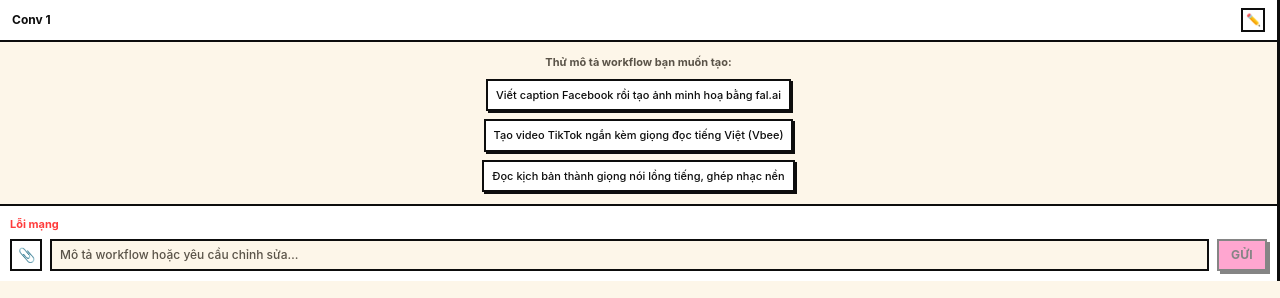
Test: ChatPane — composer › shows chatError above the composer and hides it once the user types again
Expected: the text "Lỗi mạng" is shown, [10,217,59,231]
Type "a" into the text box with test id "chat-input". click: (630, 254)
box: [50,238,1209,270]
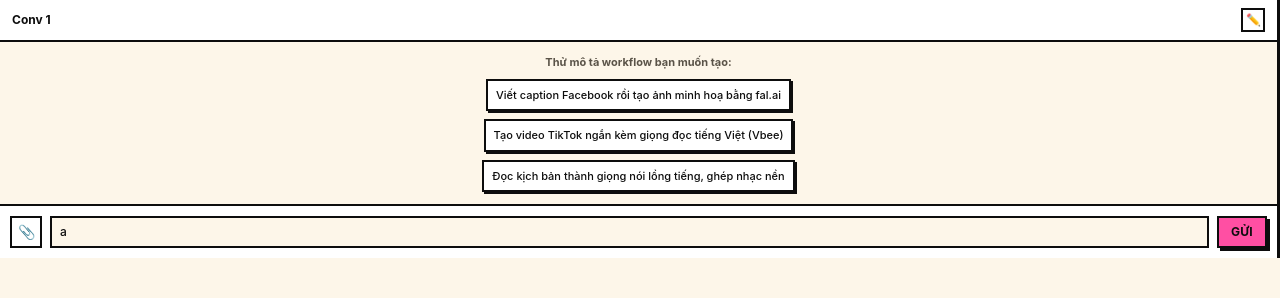
Now the text "Lỗi mạng" is gone
